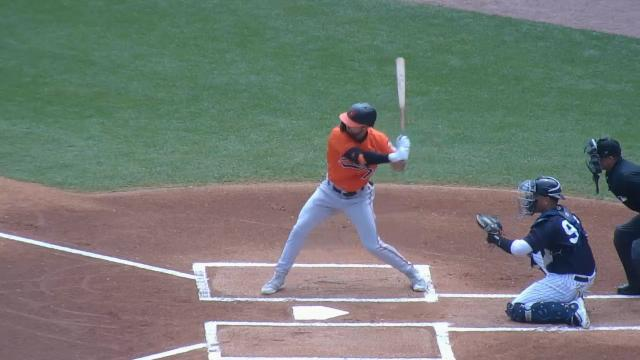bat: (396, 56, 408, 134)
